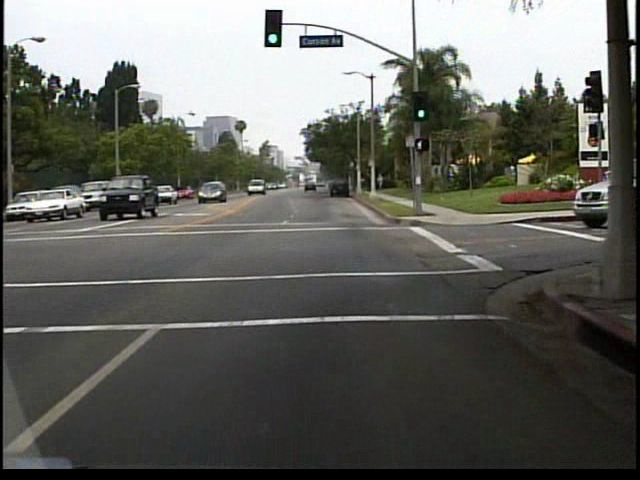person: (369, 175, 378, 199), (376, 172, 385, 192)
